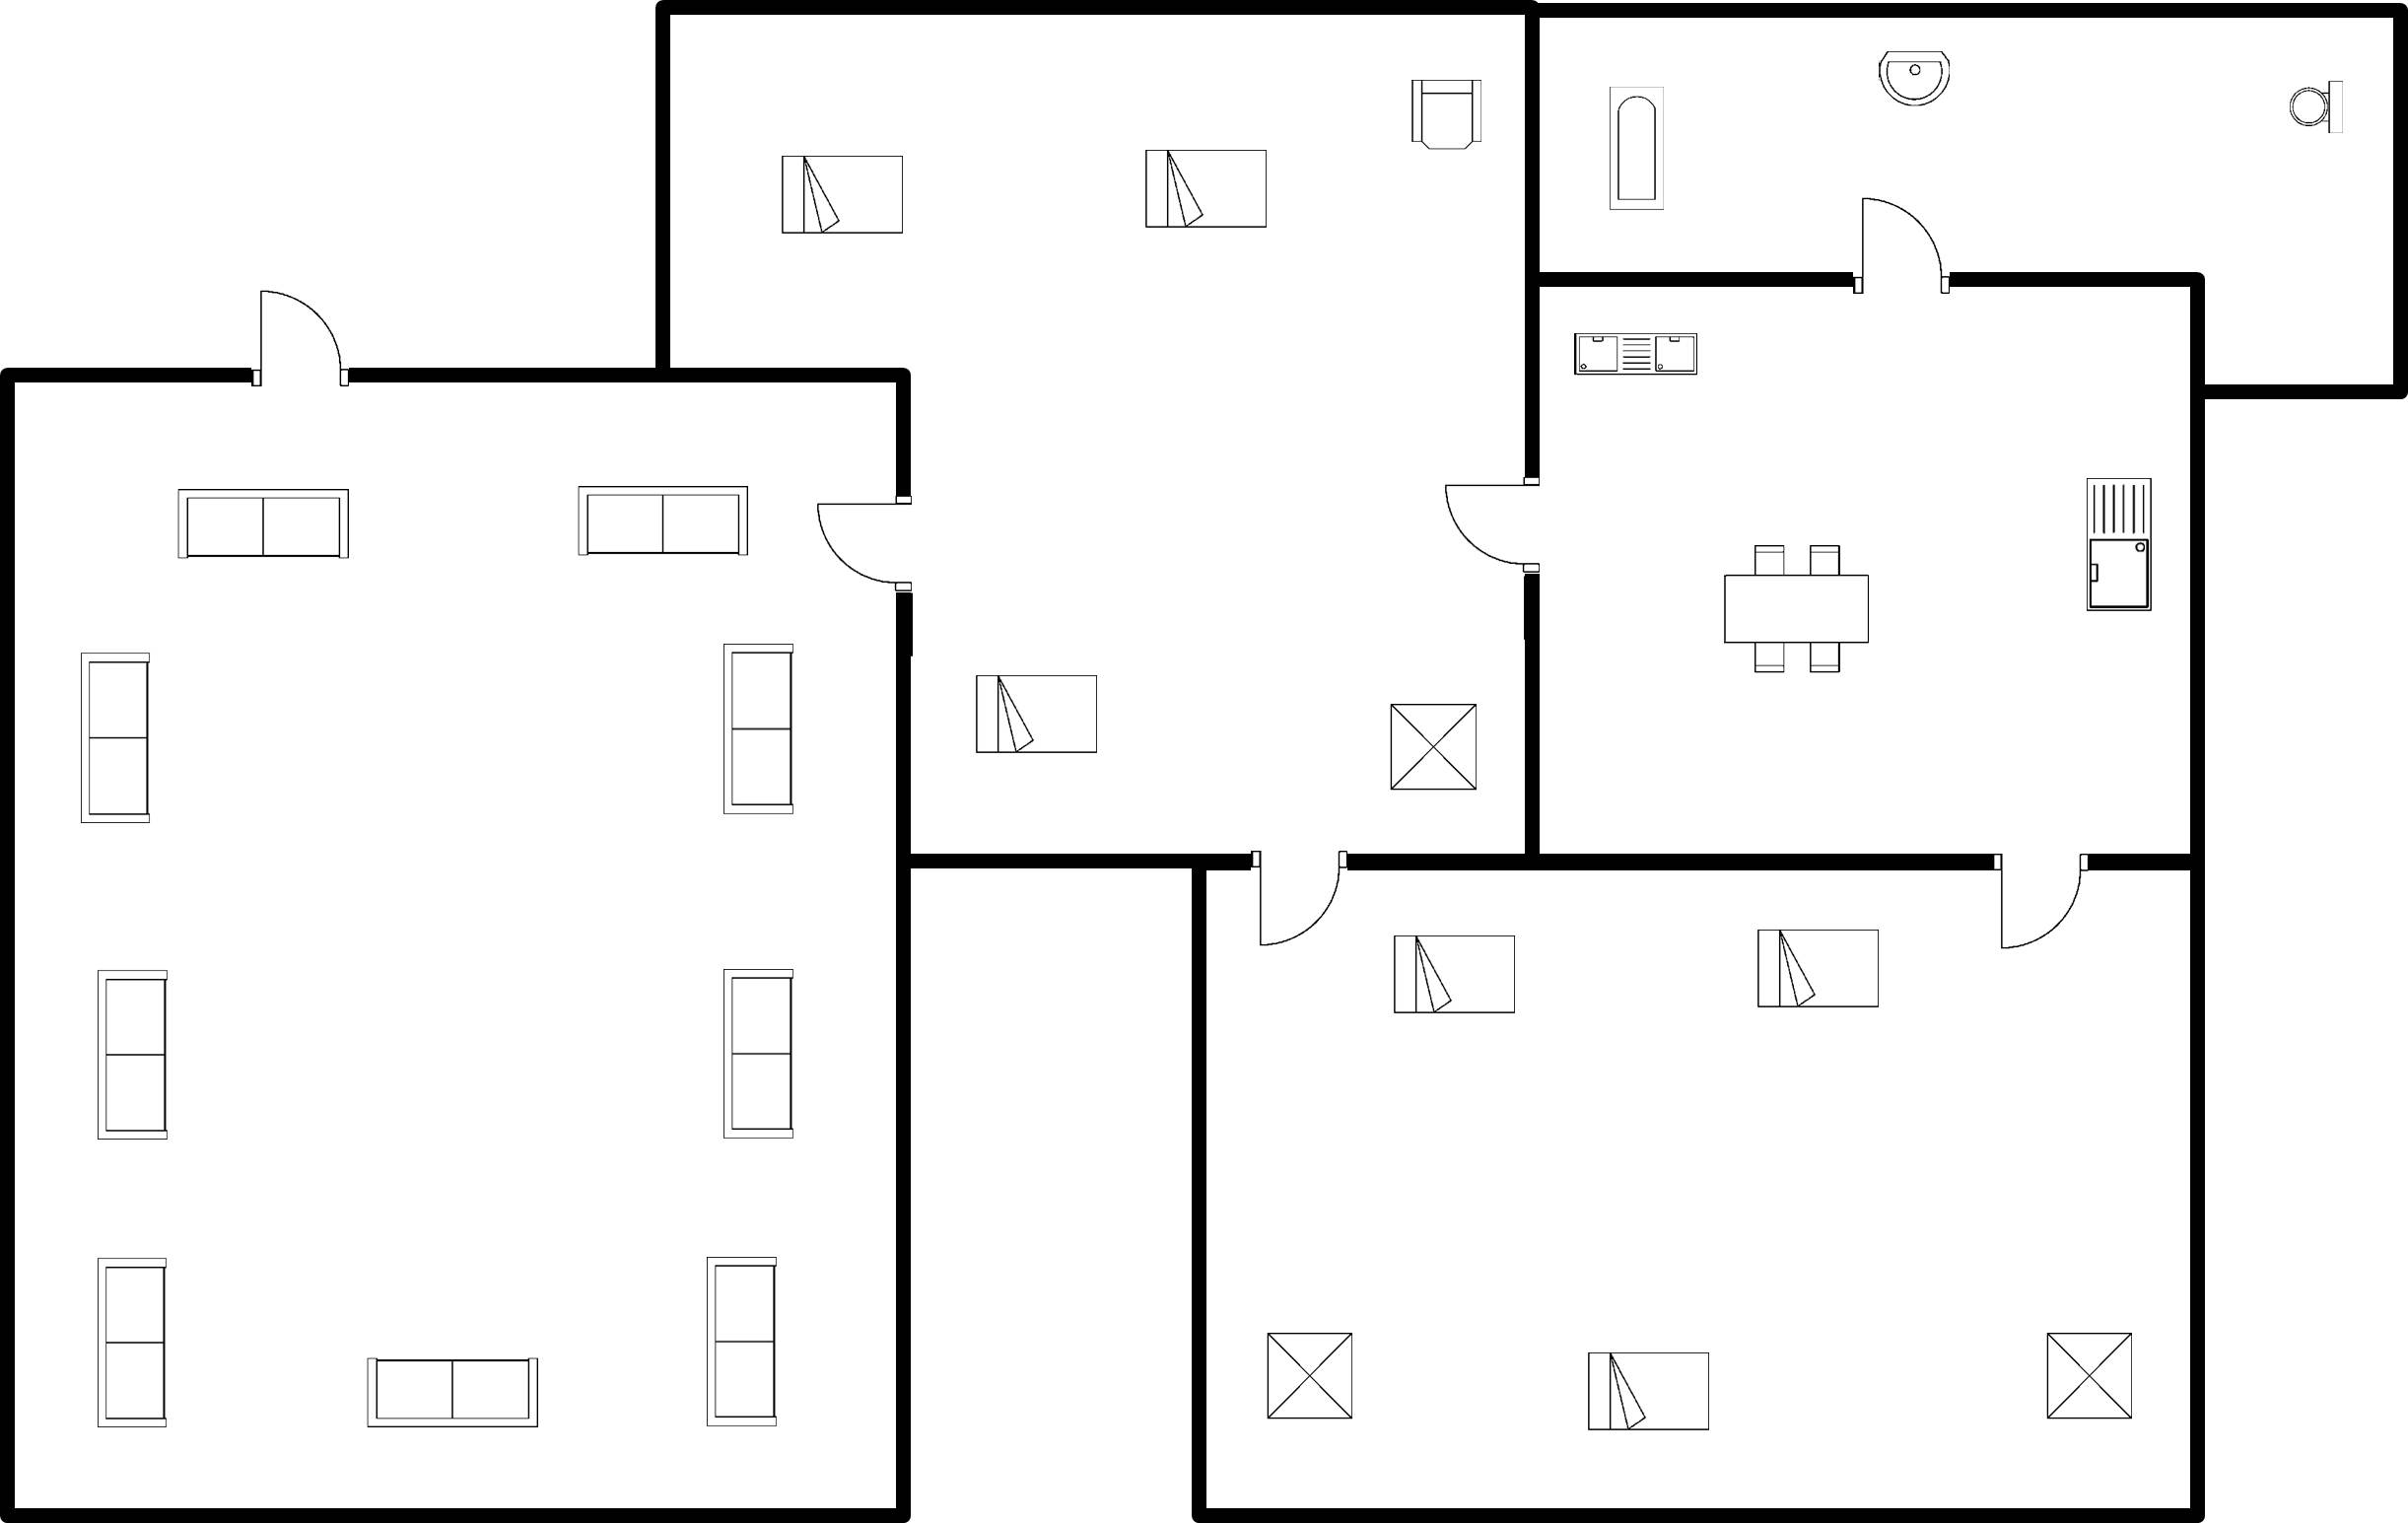armchair: (1399, 70, 1497, 169)
bed: (1578, 1339, 1732, 1446), (1381, 922, 1528, 1027), (1748, 917, 1893, 1020), (771, 144, 915, 245), (966, 662, 1112, 763), (1135, 139, 1275, 241)
coffee_table: (1378, 696, 1490, 806), (2033, 1318, 2144, 1430), (1250, 1323, 1366, 1430)
dining_table: (1711, 533, 1885, 689)
large_sink: (2277, 70, 2355, 153)
large_sofa: (85, 1242, 184, 1439), (711, 633, 809, 829), (67, 640, 164, 837), (351, 1344, 551, 1439), (166, 476, 359, 571), (712, 958, 807, 1152), (697, 1240, 791, 1435), (88, 958, 181, 1155), (569, 474, 757, 566)
sink: (2075, 465, 2167, 628)
small_sink: (1864, 35, 1961, 118)
tub: (1596, 75, 1681, 222)
twin_sink: (1559, 320, 1715, 391)
